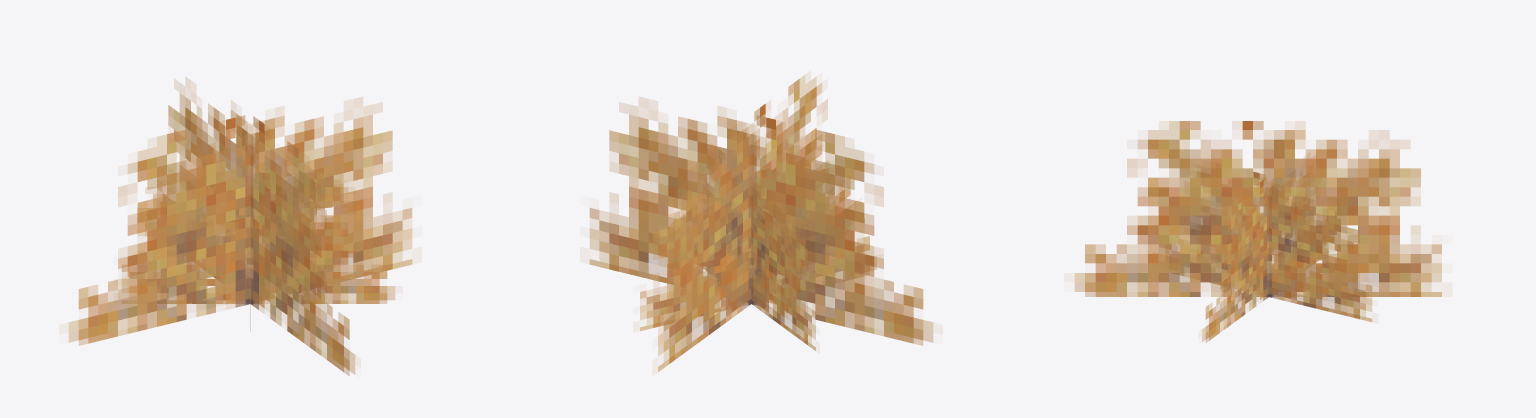
The model's file is tree-shrub.opt.glb.
3 views of the same model, side by side, from view 1: azimuth 30°, elevation 25°; view 2: azimuth 150°, elevation 25°; view 3: azimuth 270°, elevation 25° (orthographic). The views are drawn at different scales.
Bounding box in the file's own units: 0.78 × 0.3 × 0.78.
Materials: 1 (1 with a texture image).
